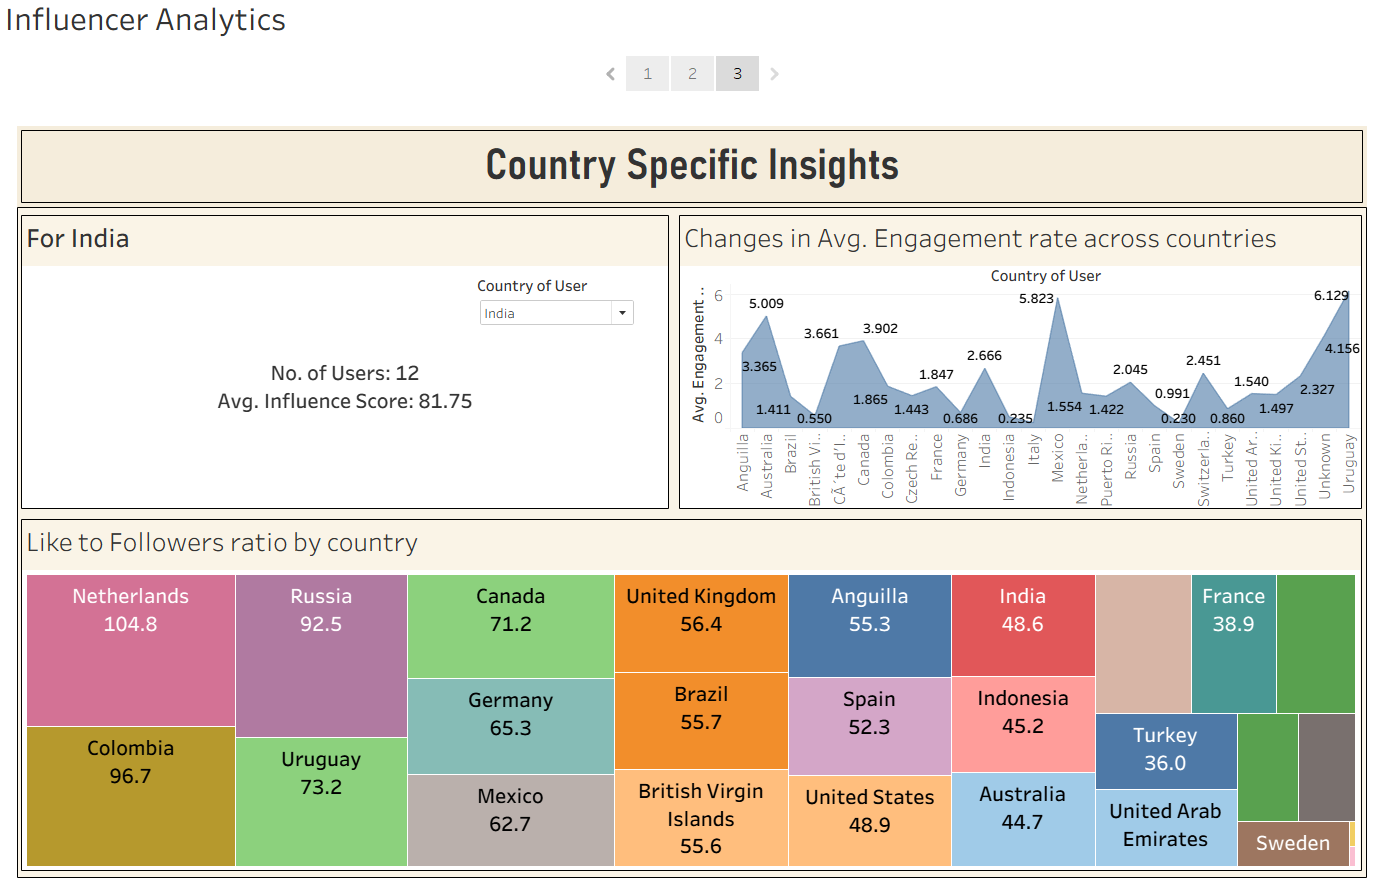

The dashboard page shown, as its layout file describes it:
{"tool":"tableau","page":{"name":"Country Specific Insights","canvas":[1366,768],"ordinal":0},"visuals":[{"type":"title","box":[8,8,1350,81]},{"type":"worksheet","title":"Influencer and Avg Score per country","mark":"Automatic","box":[12,97,648,294]},{"type":"worksheet","title":"Changes in Avg. Engagement rate across countries","mark":"Area","rows":["Calculation_0680920530857984"],"cols":["Country_of_User"],"box":[670,97,683,294]},{"type":"filter","title":"Influencer and Avg Score per country","param":"[federated.1uggo2g132cp5b18gn1sc04it2e9].[none:Country_of_User:nk]","box":[468,157,160,61]},{"type":"worksheet","title":"Like to Followers ratio by country","mark":"Automatic","box":[12,401,1341,352]}]}

Visuals, with their boxes in screenshot pixels (x1, y1, x2, y2):
title: box(12, 123, 1360, 204)
"Influencer and Avg Score per country" worksheet: box(16, 212, 663, 506)
"Changes in Avg. Engagement rate across countries" worksheet (Area marks): box(673, 212, 1355, 506)
"Influencer and Avg Score per country" filter: box(471, 272, 631, 333)
"Like to Followers ratio by country" worksheet: box(16, 516, 1355, 868)
